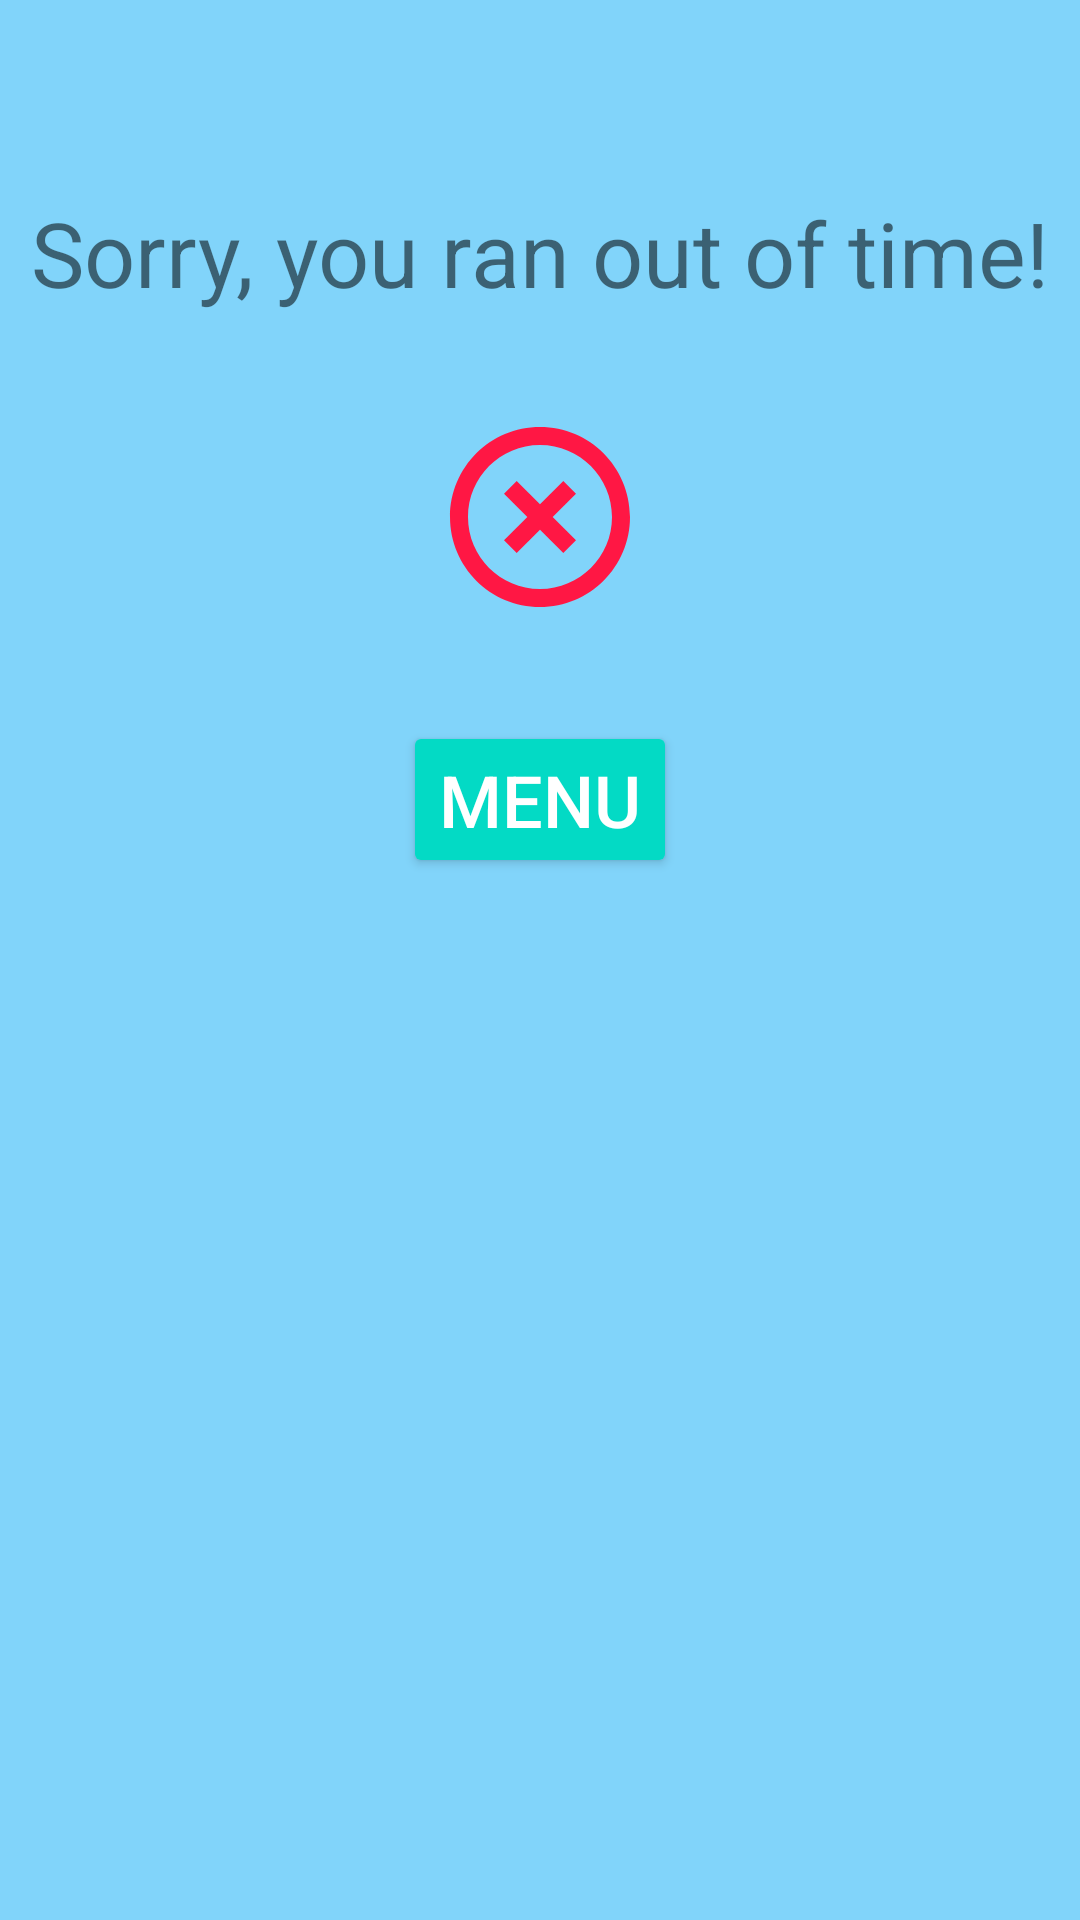

Screen size 1080x1920. Icon name, then its box in pixels as (x1, y1, x2, y2):
Cross: (450, 427, 630, 607)
